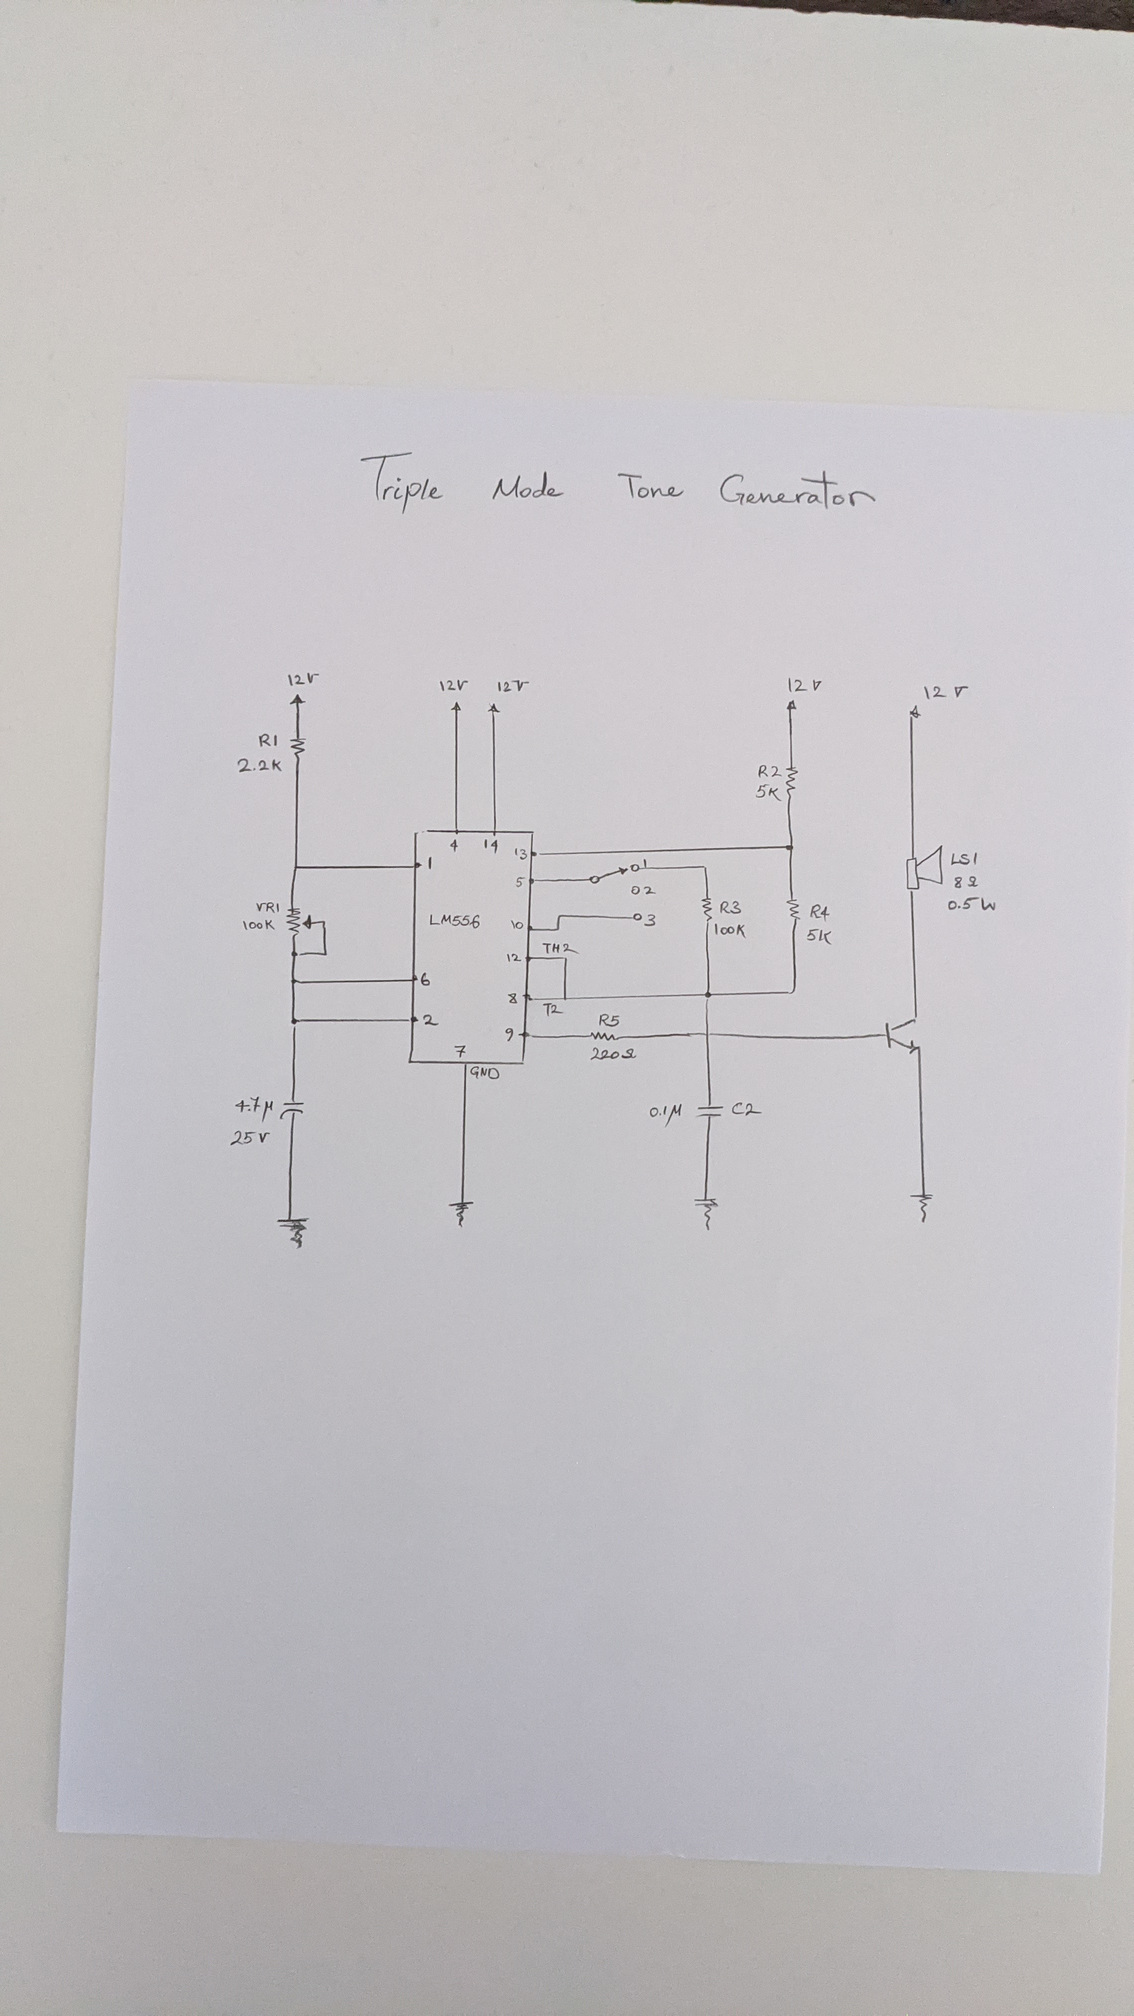capacitor.unpolarized: (277, 1098, 307, 1122), (692, 1102, 726, 1120)
crossover: (702, 1029, 714, 1038)
gnd: (276, 1216, 312, 1250), (692, 1196, 720, 1232), (444, 1198, 475, 1230), (908, 1189, 935, 1225)
integrated_circuit: (406, 827, 539, 1066)
junction: (289, 1016, 302, 1029), (702, 990, 716, 1001), (784, 842, 796, 852), (289, 948, 302, 958), (786, 987, 798, 997), (291, 863, 302, 872), (289, 978, 300, 986), (561, 955, 570, 964), (321, 950, 331, 958), (320, 918, 330, 926), (701, 864, 710, 871), (555, 912, 564, 919), (561, 996, 569, 1002), (554, 926, 562, 932)
resistor: (288, 737, 309, 766), (784, 763, 799, 798), (786, 896, 804, 924), (699, 894, 714, 925), (588, 1032, 620, 1043)
resistor.adjustable: (284, 906, 313, 940)
speaker: (901, 840, 946, 894)
switch: (588, 863, 642, 897)
terminal: (631, 911, 644, 924)
text: (356, 450, 881, 516), (233, 1095, 274, 1124), (426, 911, 483, 930), (921, 683, 971, 702), (648, 1101, 683, 1128), (946, 894, 998, 912), (588, 1044, 638, 1062), (235, 756, 282, 774), (227, 1128, 271, 1146), (786, 676, 822, 694), (713, 922, 749, 940), (730, 1099, 764, 1117), (755, 784, 784, 803), (804, 928, 834, 947), (540, 942, 580, 955), (496, 678, 532, 694), (285, 672, 321, 687), (469, 1065, 501, 1081), (809, 901, 832, 924), (948, 850, 979, 867), (953, 872, 980, 890), (241, 918, 276, 932), (595, 1011, 622, 1029), (756, 763, 784, 780), (719, 899, 744, 917), (438, 678, 469, 692), (253, 901, 282, 915), (541, 1001, 564, 1018), (482, 836, 500, 856), (258, 732, 280, 748), (512, 845, 529, 863), (421, 1012, 440, 1027), (642, 912, 659, 929), (418, 971, 433, 989), (453, 1043, 468, 1059), (449, 836, 461, 856), (508, 917, 525, 930), (503, 1026, 516, 1043), (505, 951, 523, 964), (512, 875, 528, 889), (642, 883, 658, 897), (505, 990, 519, 1005), (426, 854, 433, 872), (642, 857, 649, 870)
transistor: (883, 1012, 924, 1056)
vss: (907, 702, 924, 721), (288, 692, 307, 706), (449, 699, 464, 714), (486, 701, 503, 714), (784, 698, 799, 712)
